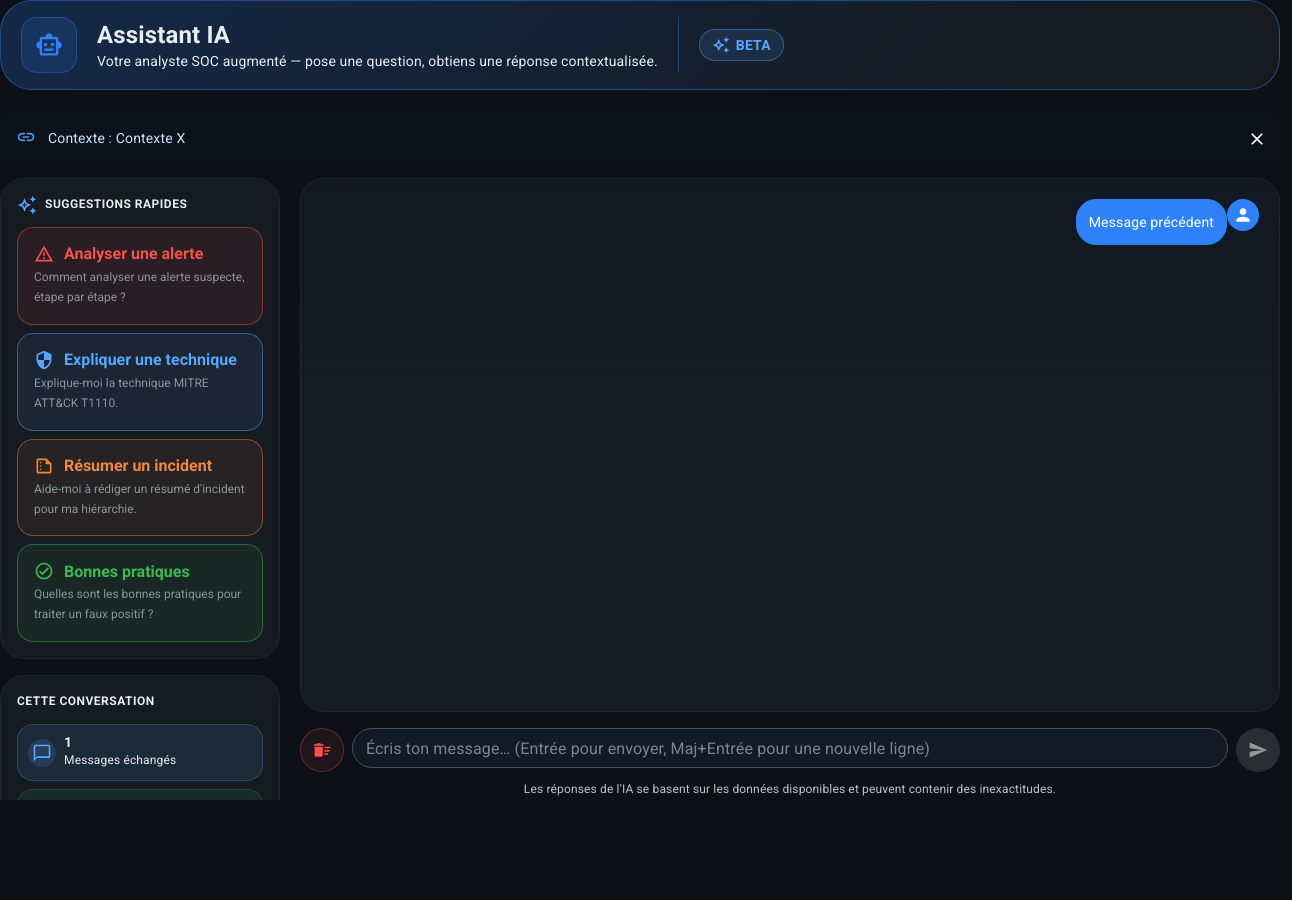
AssistantPage › clearing the conversation empties messages and removes the context
This screenshot has width=1292, height=900.
What coordinates should you click on to do the following:
click the button named "Effacer la conversation"
I would click on:
 (322, 750)
Its box is [300,728,344,772].
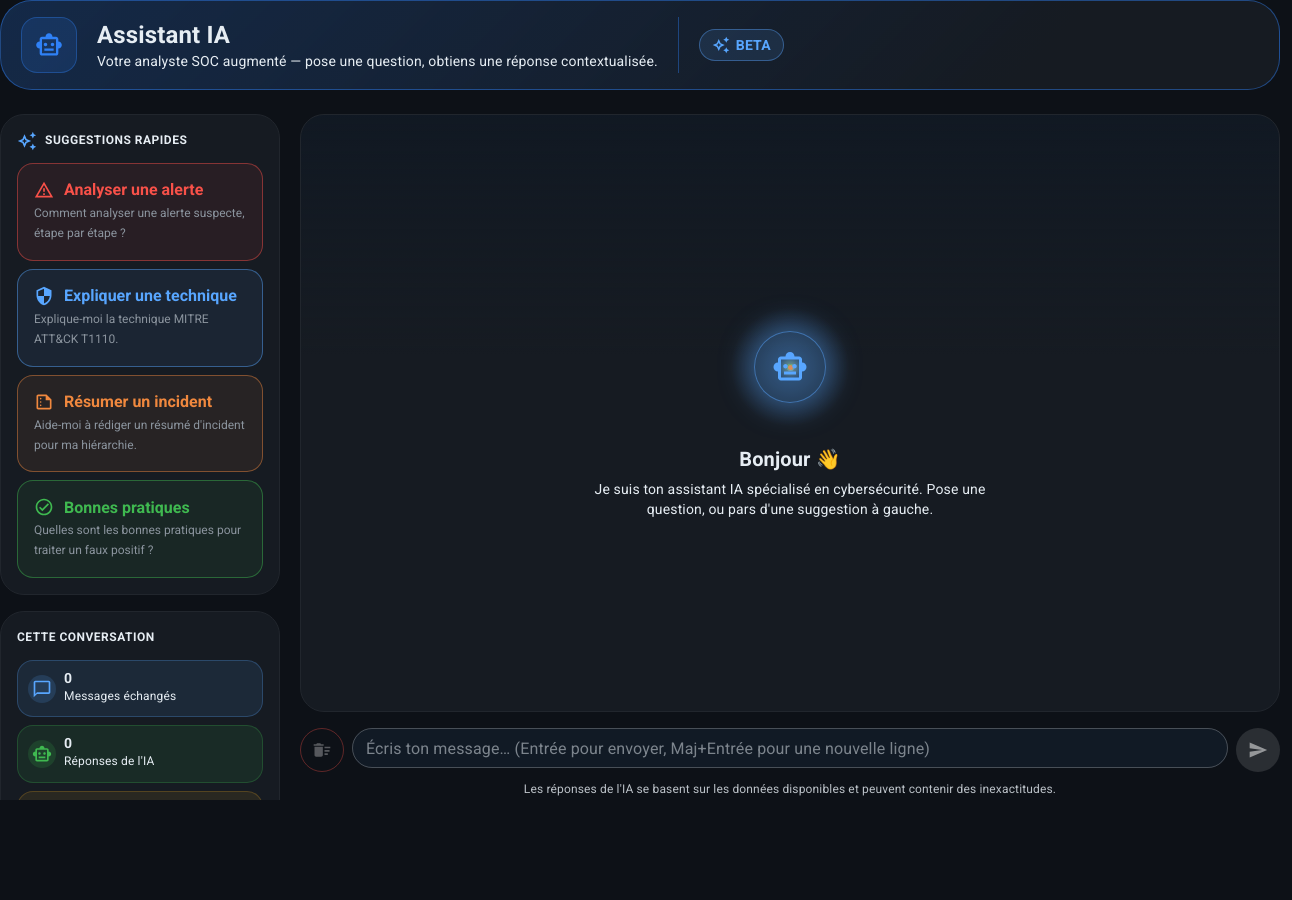
Result: the text "Message précédent" is gone
Result: the text "Contexte X" is gone
